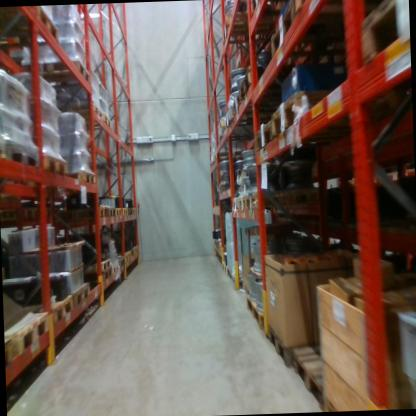pallet: (269, 83, 373, 156), (270, 1, 362, 64), (243, 185, 350, 222), (360, 0, 410, 73), (0, 137, 70, 188), (0, 6, 59, 57), (292, 337, 334, 404), (13, 291, 76, 335), (12, 311, 53, 372), (222, 12, 279, 47), (32, 54, 94, 84), (262, 319, 293, 377), (232, 91, 285, 123), (293, 0, 370, 19), (237, 66, 277, 101), (223, 107, 272, 135), (246, 0, 293, 27), (254, 113, 278, 159), (216, 126, 261, 147), (63, 104, 104, 127), (58, 204, 109, 222), (2, 202, 38, 226), (63, 168, 98, 191), (247, 295, 267, 335), (71, 281, 92, 312), (82, 265, 113, 284), (82, 113, 116, 130), (82, 256, 112, 273), (5, 336, 19, 369), (110, 253, 125, 273), (238, 193, 249, 217), (231, 271, 245, 289), (213, 149, 226, 164), (215, 117, 227, 132), (108, 204, 117, 220), (226, 264, 233, 282), (232, 196, 238, 216), (222, 261, 229, 278), (122, 252, 131, 264), (111, 263, 119, 275), (132, 244, 139, 257), (127, 205, 134, 218), (117, 203, 123, 218), (128, 248, 134, 258), (133, 205, 138, 217), (123, 206, 128, 218)
